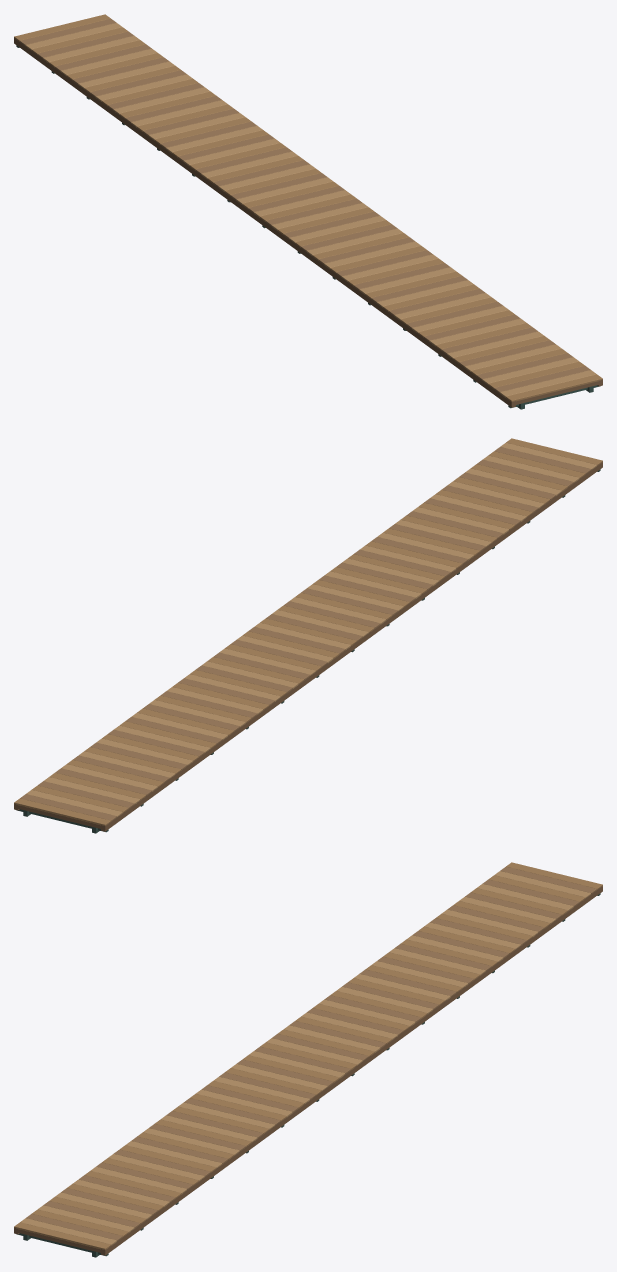
File: RIVER_FOOTBRIDGE_SOUTH_32_10.fbx
3 renders of one model, top to bottom at view 1: azimuth 30°, elevation 25°; view 2: azimuth 150°, elevation 25°; view 3: azimuth 330°, elevation 25°, orthographic.
Parts seen in each view (by area): view 1: RIVER_DECK_SOUTH_32_10; view 2: RIVER_DECK_SOUTH_32_10; view 3: RIVER_DECK_SOUTH_32_10.
Boxes of the visible parts, box(x1,y1,x2,y2) form: RIVER_DECK_SOUTH_32_10: box(14, 14, 602, 409); RIVER_DECK_SOUTH_32_10: box(14, 438, 602, 833); RIVER_DECK_SOUTH_32_10: box(14, 862, 602, 1257).
Bounding box in the file's own units: 3.4 × 0.4 × 32.1.
